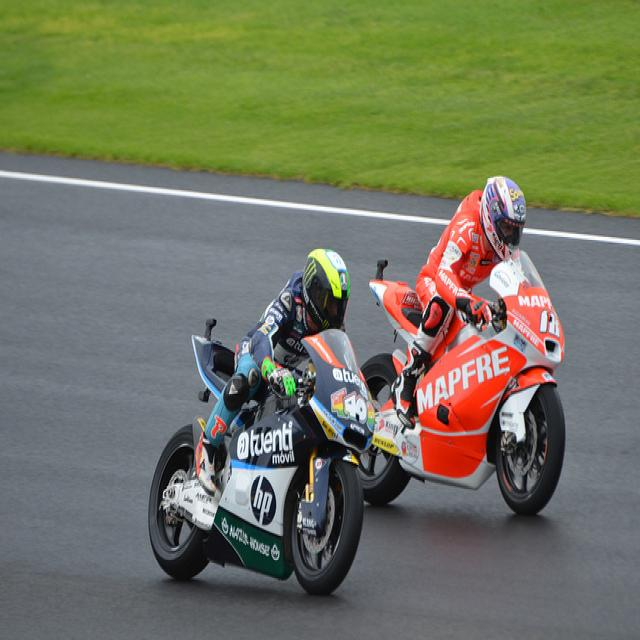motor: (151, 329, 374, 588), (355, 246, 568, 516)
